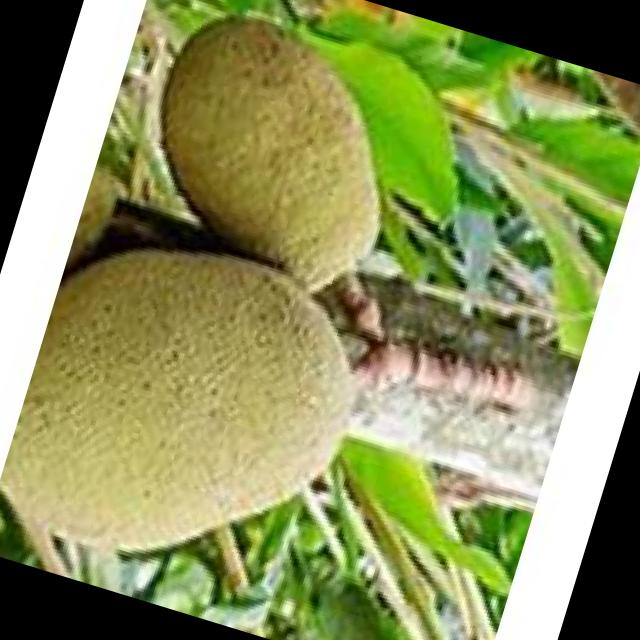Fruit: (0, 188, 416, 640), (103, 0, 447, 321)
